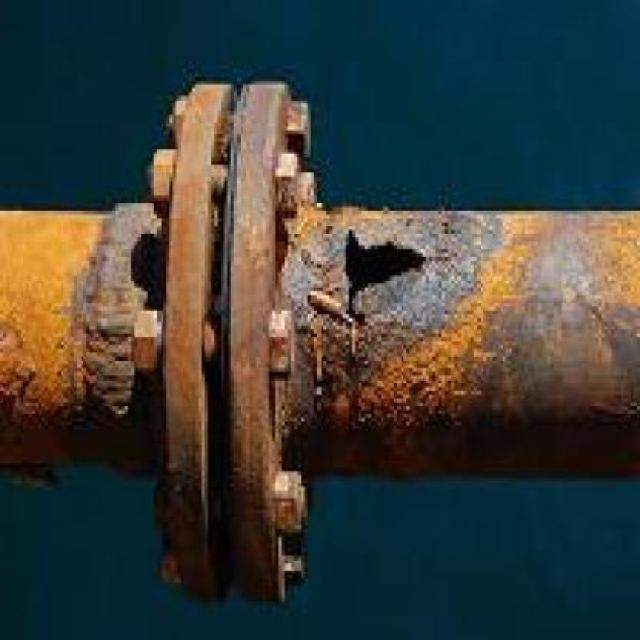corrosion: (0, 78, 640, 599)
